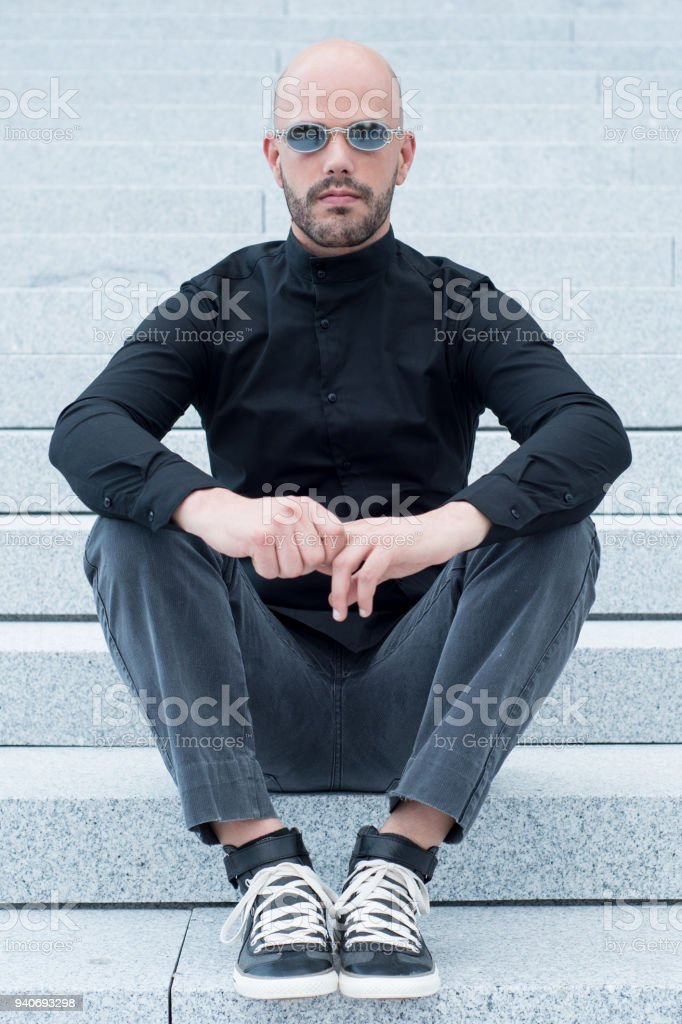human: (46, 33, 645, 1012)
